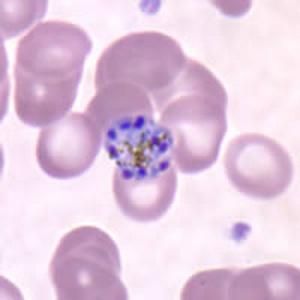Infected: (105, 115, 177, 180)
Uninfected: (96, 30, 184, 96), (222, 131, 294, 202), (154, 53, 227, 121), (162, 95, 224, 175), (13, 19, 90, 79), (15, 54, 77, 127), (48, 226, 120, 287), (38, 109, 102, 177), (87, 83, 151, 150), (108, 159, 176, 220), (50, 253, 125, 300)
